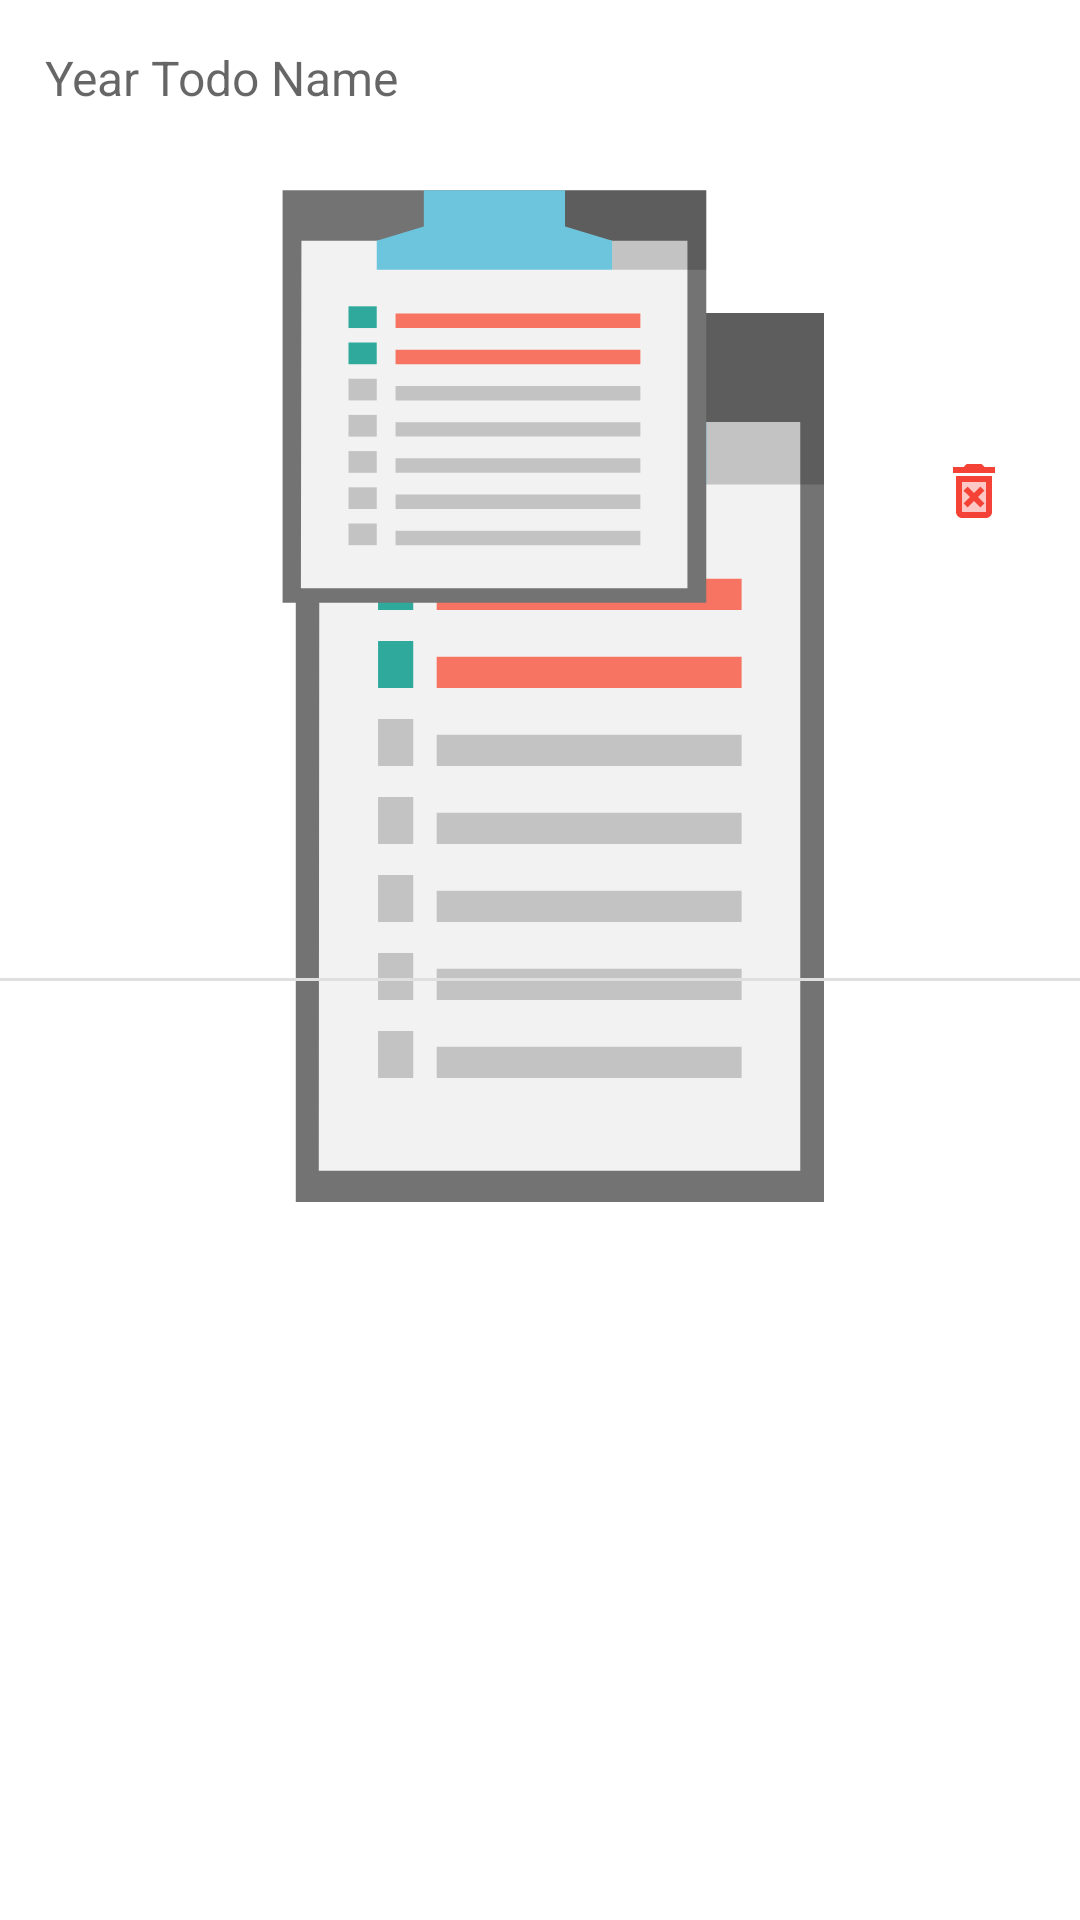

Icons on this 1080 × 1920 Android screen, each with its box as (x1, y1, x2, y2):
delete: (953, 464, 995, 518)
